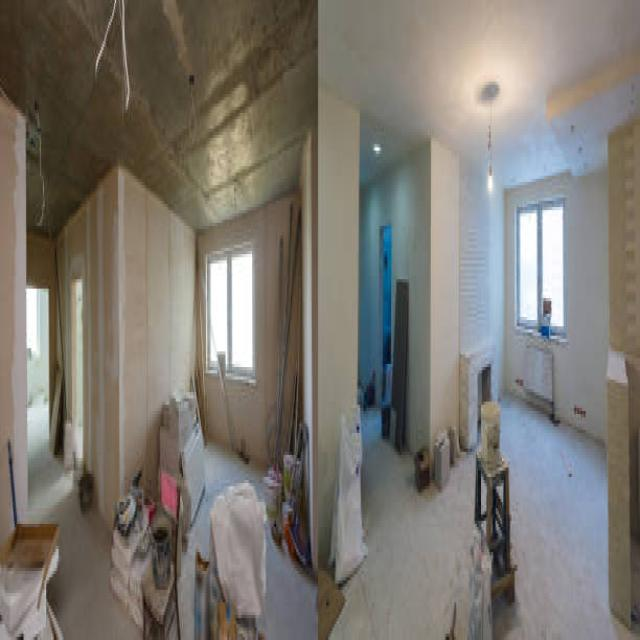floor: (493, 388, 640, 640), (329, 398, 482, 640), (18, 388, 144, 640), (179, 440, 270, 640), (261, 531, 318, 640)
wall: (503, 172, 608, 451), (195, 191, 301, 461), (118, 166, 197, 499), (430, 139, 504, 479), (54, 166, 119, 528), (357, 139, 430, 454), (316, 84, 359, 566), (0, 99, 28, 547), (606, 118, 640, 359), (514, 194, 568, 345), (26, 232, 58, 432), (605, 379, 630, 626), (606, 172, 610, 379)
